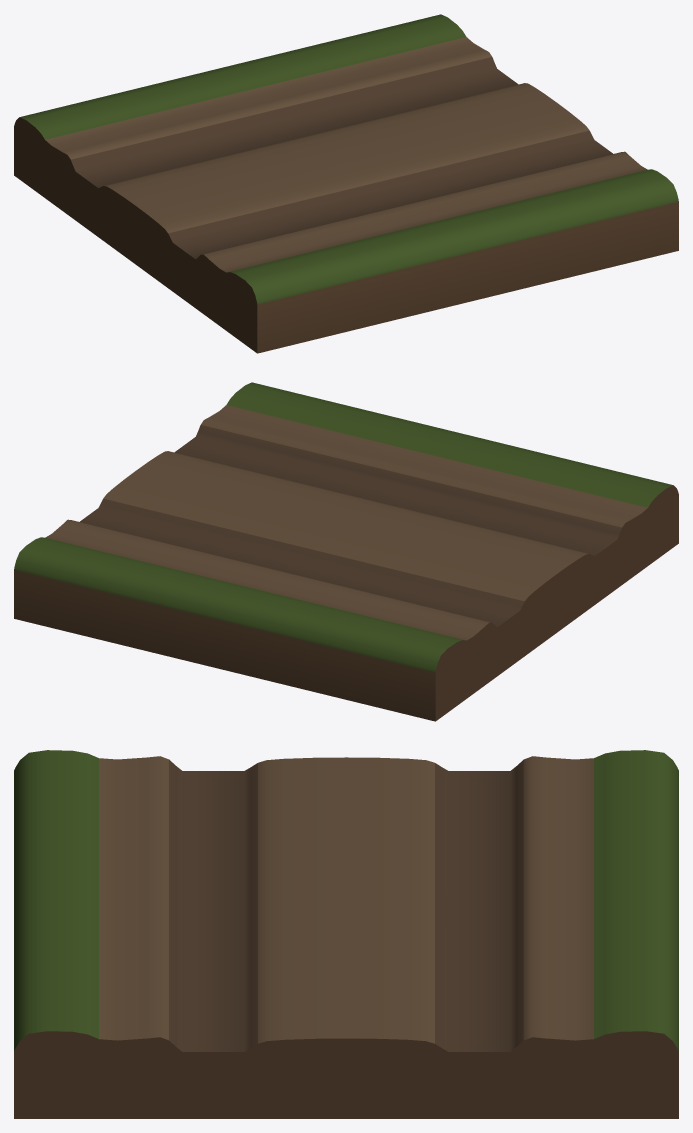
3 views of the same model, one above another, from view 1: azimuth 30°, elevation 25°; view 2: azimuth 150°, elevation 25°; view 3: azimuth 270°, elevation 25° (orthographic). The views are drawn at different scales.
Visible parts, largest first — view 1: a1o; view 2: a1o; view 3: a1o.
Boxes of the visible parts, box(x1,y1,x2,y2) form: a1o: box(14, 14, 678, 353); a1o: box(14, 382, 678, 721); a1o: box(14, 750, 678, 1118).
Size of the model in its own units: 9 by 1.31 by 9.
